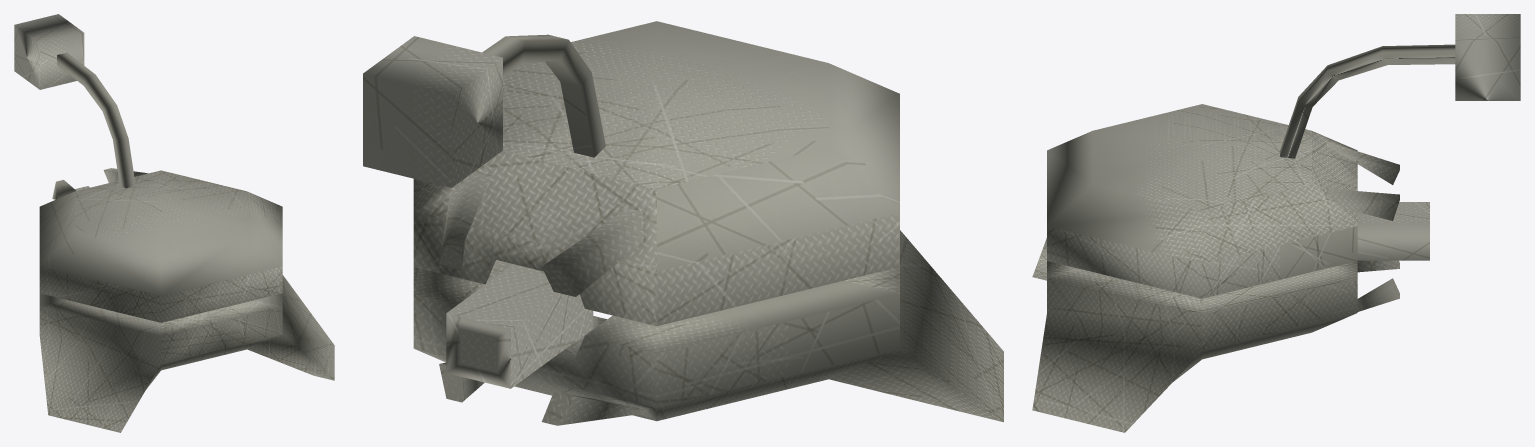
Rendered from newDrone.fbx.
The picture shows the model from 3 angles, left to right: view 1: azimuth 30°, elevation 25°; view 2: azimuth 150°, elevation 25°; view 3: azimuth 270°, elevation 25°; orthographic projection. The views are drawn at different scales.
Visible parts, largest first — view 1: polySurface3; view 2: polySurface3; view 3: polySurface3.
Boxes of the visible parts, x1,y1,x2,y2 form: polySurface3: (14,14,334,432); polySurface3: (363,21,1003,425); polySurface3: (1032,14,1520,432).
Size of the model in its own units: 2.36 by 1.94 by 2.72.
